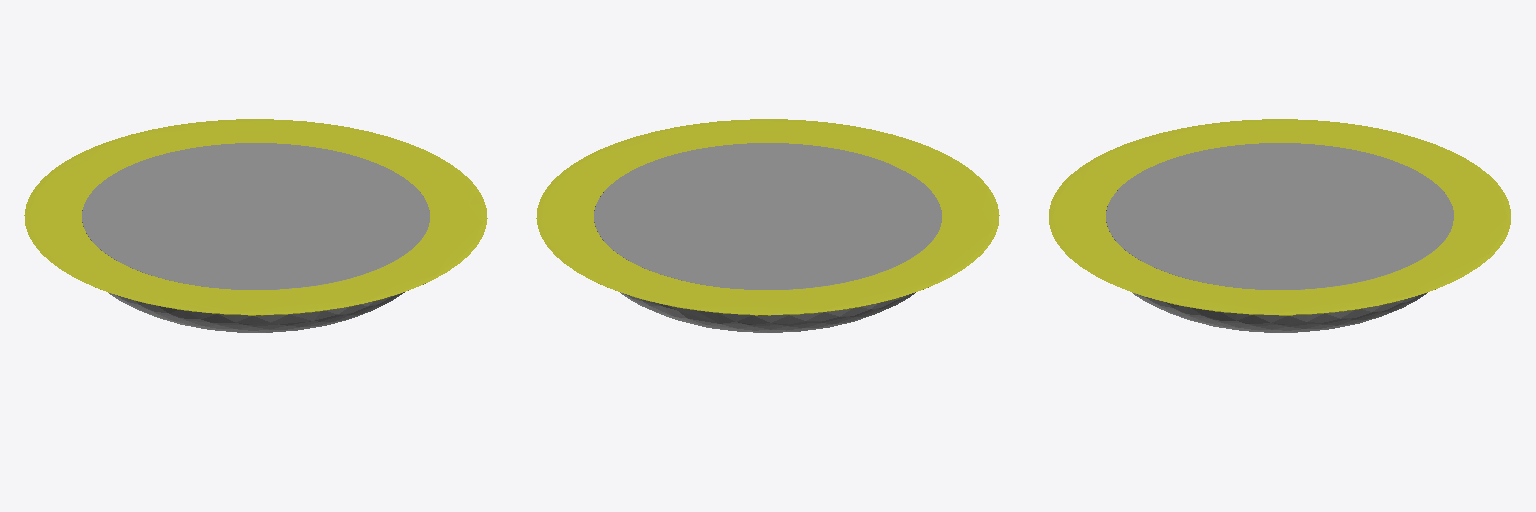
Rendered from lamp.obj.
3 views of the same model, side by side, from view 1: azimuth 30°, elevation 25°; view 2: azimuth 150°, elevation 25°; view 3: azimuth 270°, elevation 25° (orthographic).
Parts seen in each view (by area): view 1: Sphere01, Top; view 2: Sphere01, Top; view 3: Sphere01, Top.
Part boxes in pixels (left/top/right/bottom): Sphere01: left=82, top=143, right=429, bottom=332; Top: left=24, top=119, right=487, bottom=314; Sphere01: left=594, top=143, right=941, bottom=332; Top: left=536, top=119, right=999, bottom=314; Sphere01: left=1106, top=143, right=1453, bottom=332; Top: left=1049, top=119, right=1510, bottom=314.
Bounding box in the file's own units: 2.31 × 0.435 × 2.31.